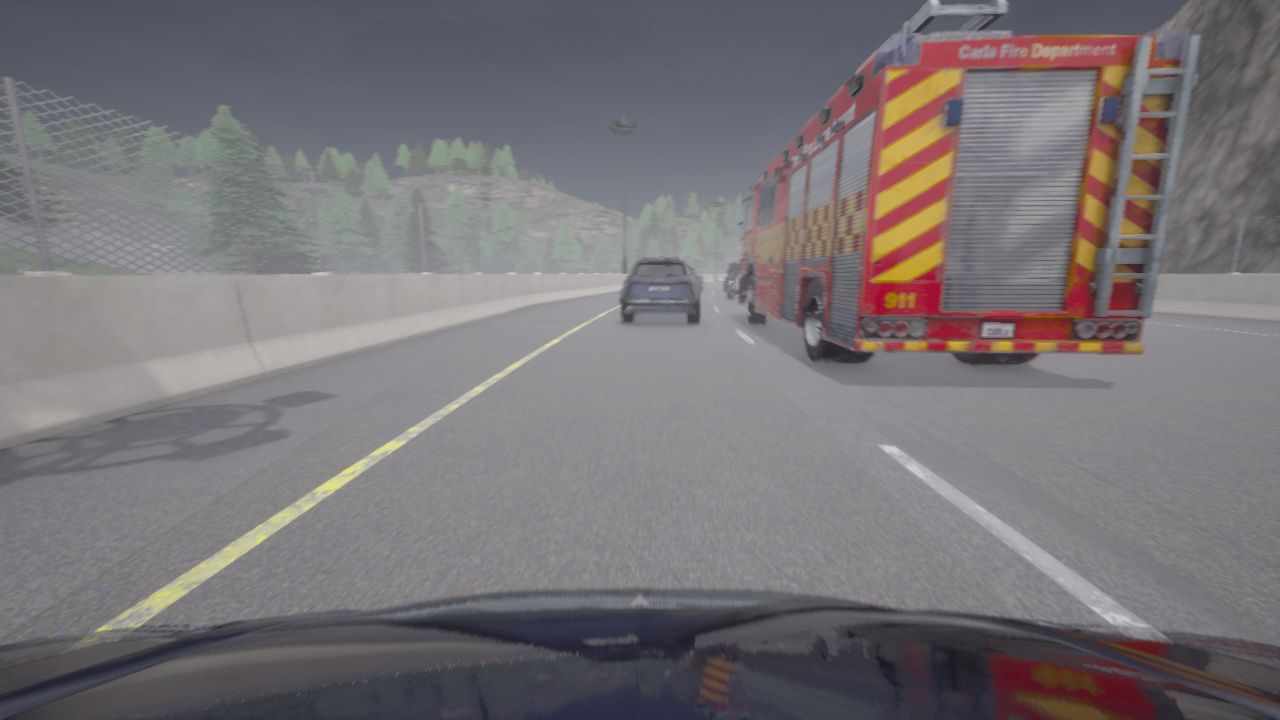cyclist: (732, 0, 1200, 364), (0, 588, 1279, 719), (621, 256, 700, 323), (724, 263, 740, 290), (727, 272, 741, 298), (690, 267, 703, 290)
